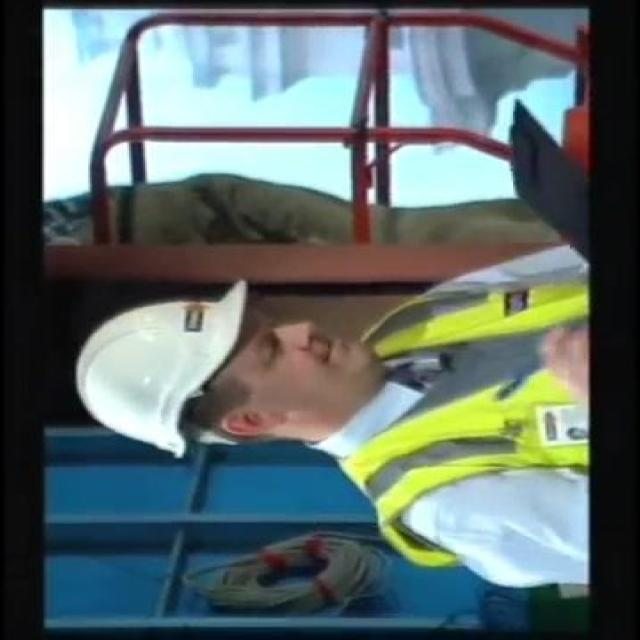helmet: (60, 264, 268, 462)
jacket: (326, 230, 583, 584)
